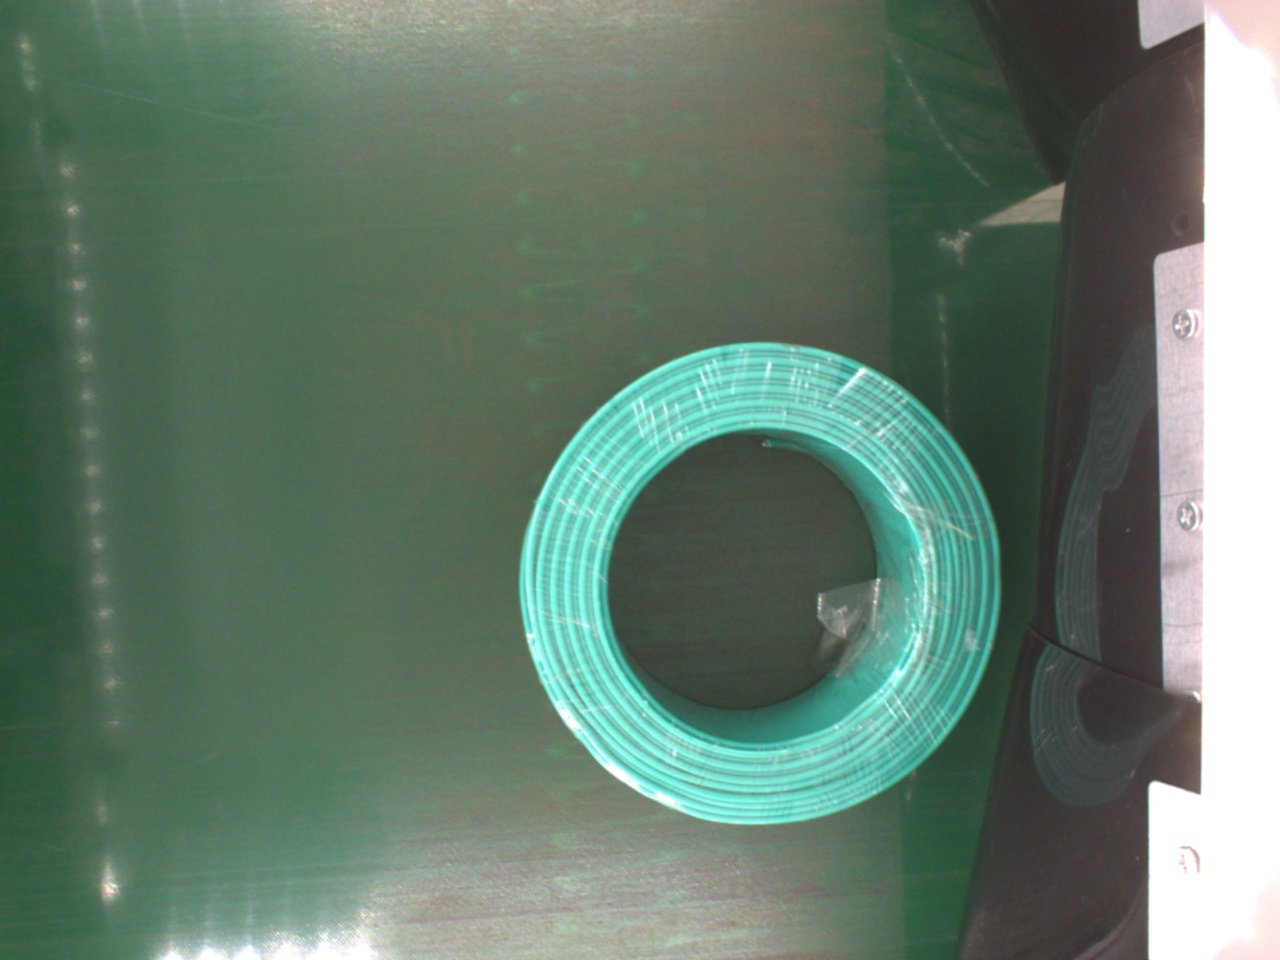green: (516, 340, 1003, 828)
